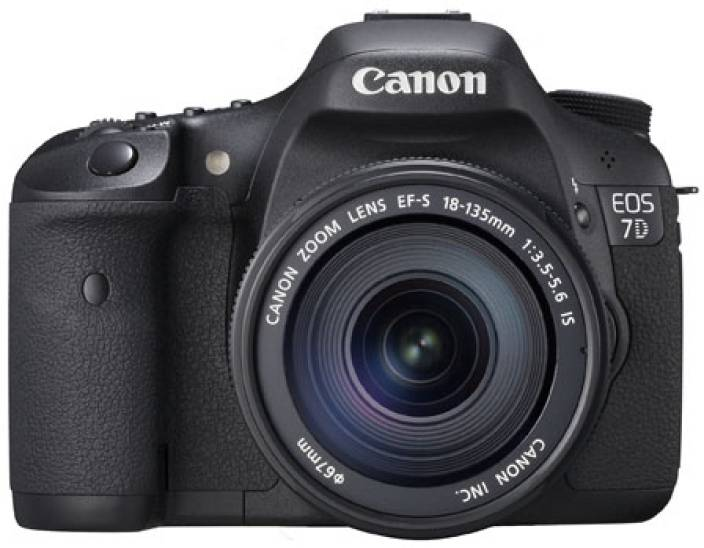kamera: (1, 7, 703, 541)
